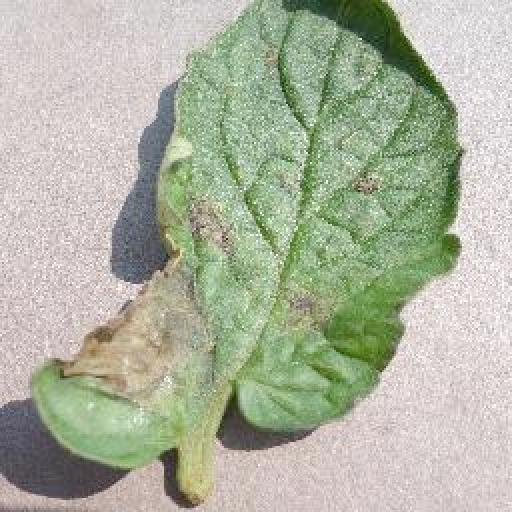disease_tomato: (30, 0, 464, 474)
